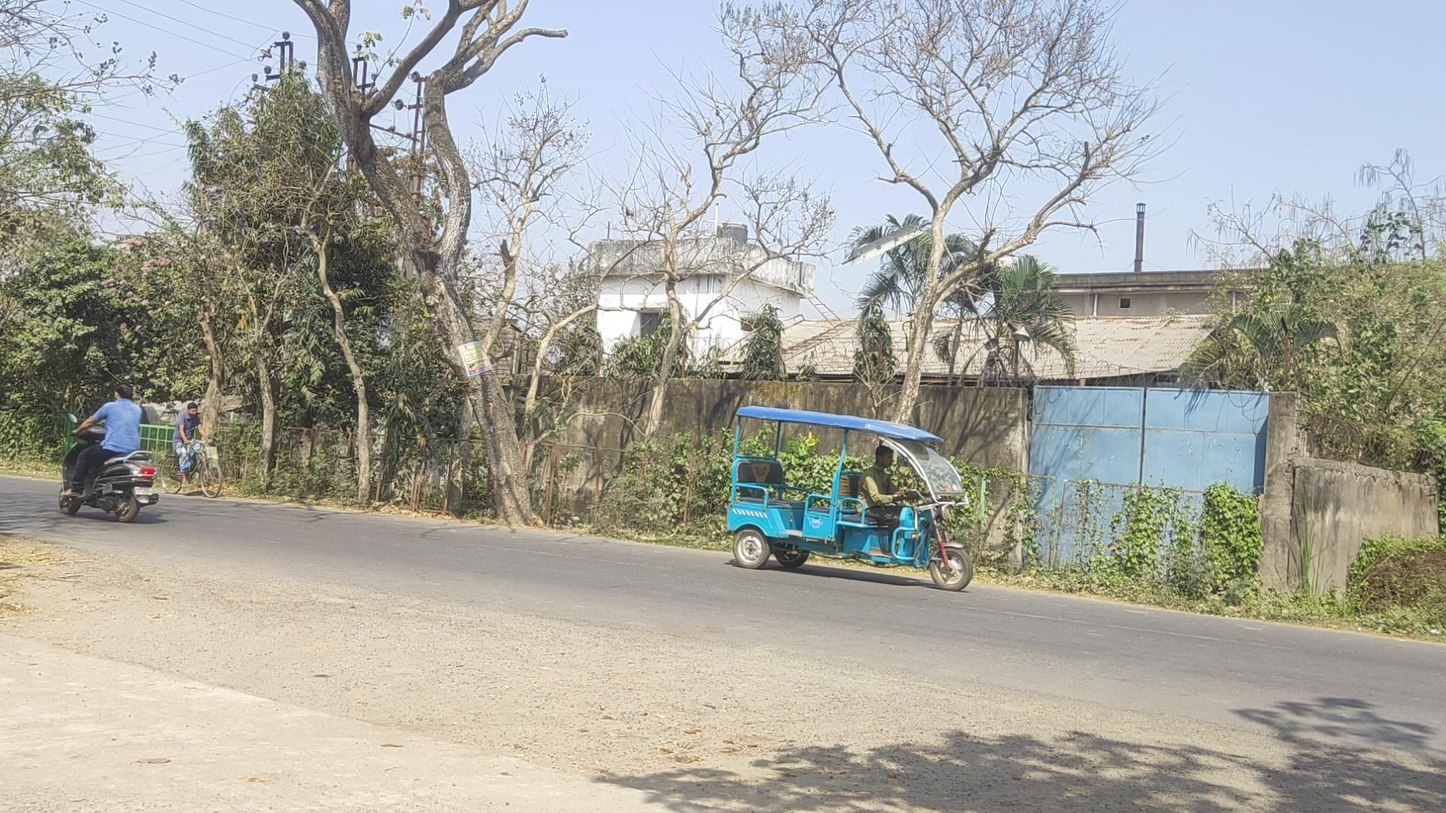Auto: (726, 404, 973, 592)
bike: (58, 383, 159, 523), (160, 403, 223, 498)
